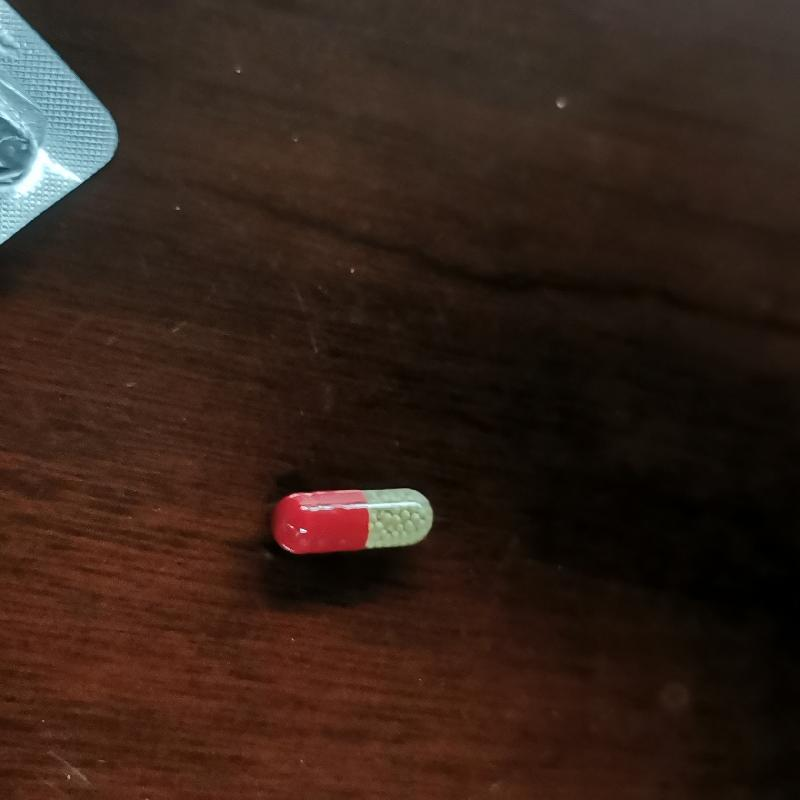pills: (265, 484, 441, 560)
